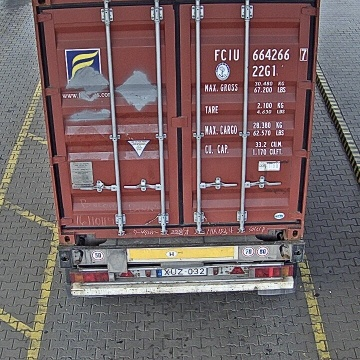serial_id: (214, 48, 308, 60)
